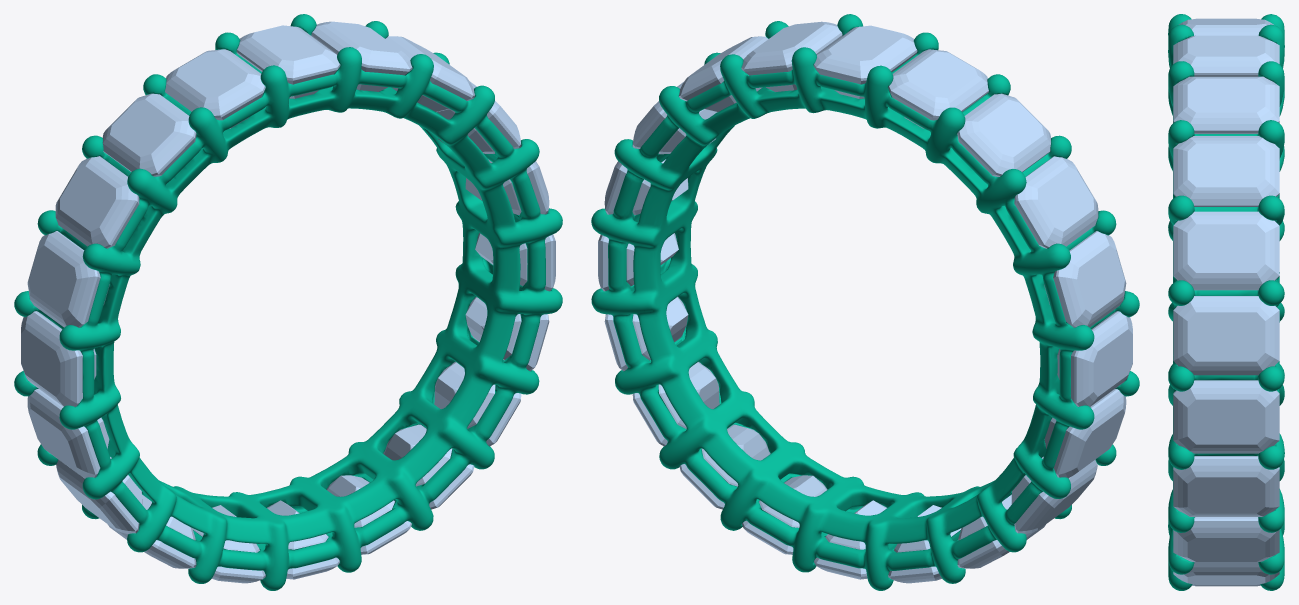
The model's file is BE2DEM500ELC_RENDER.glb.
3 views of the same model, side by side, from view 1: azimuth 30°, elevation 25°; view 2: azimuth 150°, elevation 25°; view 3: azimuth 270°, elevation 25° (orthographic).
Parts seen in each view (by area): view 1: Metal03, Diamond_Emerald_Gem_BD.003, Diamond_Emerald_Gem_BD.002, Diamond_Emerald_Gem_BD.004, Diamond_Emerald_Gem_BD.001, Diamond_Emerald_Gem_BD.005, Diamond_Emerald_Gem_BD, Diamond_Emerald_Gem_BD.006, Diamond_Emerald_Gem_BD.019, Diamond_Emerald_Gem_BD.007, Diamond_Emerald_Gem_BD.018, Diamond_Emerald_Gem_BD.013 (+9 smaller); view 2: Metal03, Diamond_Emerald_Gem_BD.003, Diamond_Emerald_Gem_BD.002, Diamond_Emerald_Gem_BD.004, Diamond_Emerald_Gem_BD.001, Diamond_Emerald_Gem_BD.005, Diamond_Emerald_Gem_BD, Diamond_Emerald_Gem_BD.006, Diamond_Emerald_Gem_BD.019, Diamond_Emerald_Gem_BD.007, Diamond_Emerald_Gem_BD.018, Diamond_Emerald_Gem_BD.013 (+9 smaller); view 3: Metal03, Diamond_Emerald_Gem_BD.016, Diamond_Emerald_Gem_BD.017, Diamond_Emerald_Gem_BD.015, Diamond_Emerald_Gem_BD.018, Diamond_Emerald_Gem_BD.014, Diamond_Emerald_Gem_BD.019, Diamond_Emerald_Gem_BD.013, Diamond_Emerald_Gem_BD, Diamond_Emerald_Gem_BD.012, Diamond_Emerald_Gem_BD.001.
Boxes of the visible parts, left/top/right/bottom form: Metal03: left=14, top=14, right=562, bottom=590; Diamond_Emerald_Gem_BD.003: left=55, top=156, right=139, bottom=248; Diamond_Emerald_Gem_BD.002: left=102, top=93, right=196, bottom=176; Diamond_Emerald_Gem_BD.004: left=27, top=231, right=109, bottom=327; Diamond_Emerald_Gem_BD.001: left=165, top=49, right=265, bottom=128; Diamond_Emerald_Gem_BD.005: left=21, top=311, right=96, bottom=406; Diamond_Emerald_Gem_BD: left=236, top=25, right=340, bottom=98; Diamond_Emerald_Gem_BD.006: left=27, top=389, right=109, bottom=478; Diamond_Emerald_Gem_BD.019: left=311, top=21, right=412, bottom=91; Diamond_Emerald_Gem_BD.007: left=56, top=457, right=142, bottom=534; Diamond_Emerald_Gem_BD.018: left=385, top=36, right=474, bottom=112; Diamond_Emerald_Gem_BD.013: left=434, top=361, right=521, bottom=446; Metal03: left=591, top=14, right=1139, bottom=590; Diamond_Emerald_Gem_BD.003: left=1014, top=156, right=1098, bottom=248; Diamond_Emerald_Gem_BD.002: left=957, top=93, right=1051, bottom=176; Diamond_Emerald_Gem_BD.004: left=1044, top=231, right=1126, bottom=327; Diamond_Emerald_Gem_BD.001: left=888, top=49, right=988, bottom=128; Diamond_Emerald_Gem_BD.005: left=1057, top=311, right=1132, bottom=406; Diamond_Emerald_Gem_BD: left=813, top=25, right=917, bottom=98; Diamond_Emerald_Gem_BD.006: left=1044, top=389, right=1126, bottom=478; Diamond_Emerald_Gem_BD.019: left=741, top=21, right=842, bottom=91; Diamond_Emerald_Gem_BD.007: left=1011, top=456, right=1097, bottom=533; Diamond_Emerald_Gem_BD.018: left=679, top=36, right=768, bottom=112; Diamond_Emerald_Gem_BD.013: left=632, top=362, right=719, bottom=446; Metal03: left=1168, top=14, right=1284, bottom=590; Diamond_Emerald_Gem_BD.016: left=1173, top=296, right=1279, bottom=375; Diamond_Emerald_Gem_BD.017: left=1173, top=211, right=1279, bottom=290; Diamond_Emerald_Gem_BD.015: left=1173, top=380, right=1279, bottom=453; Diamond_Emerald_Gem_BD.018: left=1173, top=136, right=1279, bottom=206; Diamond_Emerald_Gem_BD.014: left=1173, top=456, right=1279, bottom=516; Diamond_Emerald_Gem_BD.019: left=1173, top=76, right=1279, bottom=133; Diamond_Emerald_Gem_BD.013: left=1173, top=517, right=1279, bottom=561; Diamond_Emerald_Gem_BD: left=1173, top=35, right=1279, bottom=76; Diamond_Emerald_Gem_BD.012: left=1173, top=562, right=1279, bottom=584; Diamond_Emerald_Gem_BD.001: left=1179, top=18, right=1273, bottom=35.
Bounding box in the file's own units: 21.51 × 21.52 × 4.4.
